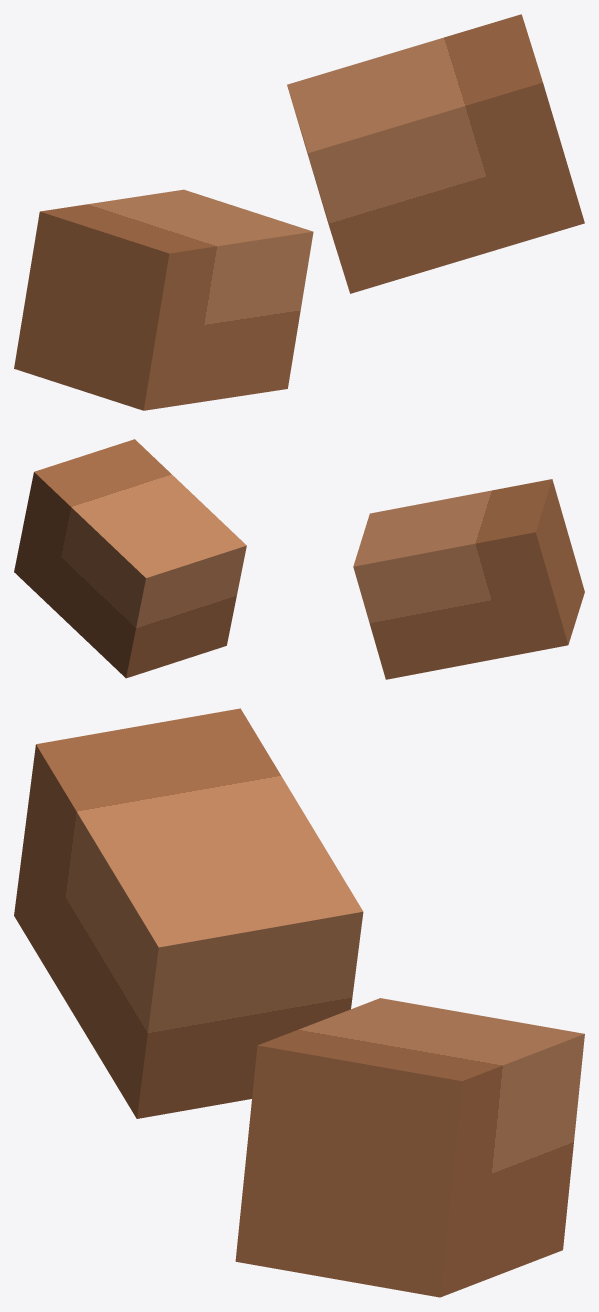
The model's file is eggplant-seeds.gltf.
3 views of the same model, one above another, from view 1: azimuth 30°, elevation 25°; view 2: azimuth 150°, elevation 25°; view 3: azimuth 270°, elevation 25° (orthographic). The views are drawn at different scales.
Parts seen in each view (by area): view 1: cube (×2); view 2: cube (×2); view 3: cube (×2).
Boxes of the visible parts, x1,y1,x2,y2 form: cube (×2): (14,14,584,410); cube (×2): (14,439,584,679); cube (×2): (14,708,584,1297).
Bounding box in the file's own units: 0.5575 × 0.1693 × 0.3222.
Materials: 1 (1 with a texture image).
